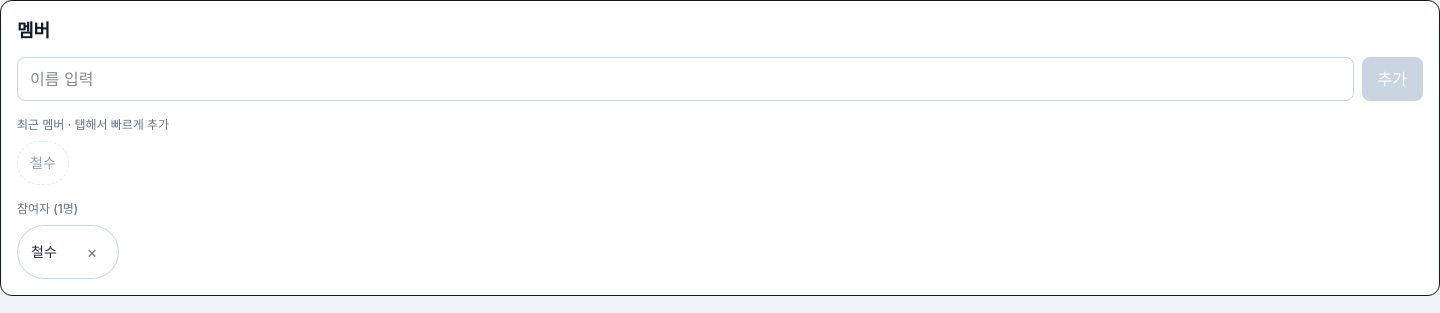
Test: MemberEditor › 참여자 칩 이름을 탭하면 인라인 편집으로 전환되고 Enter로 확정하면 스토어에 반영된다
Click the button "철수" below "참여자 (" at (44, 252), box [22, 230, 66, 274]
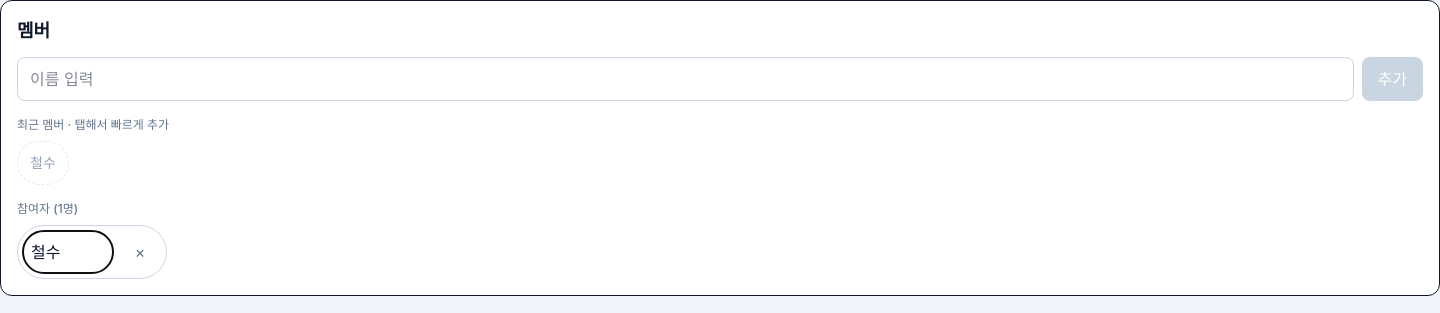
Clear the field named "철수 이름 수정" at (68, 252), box [22, 230, 114, 274]
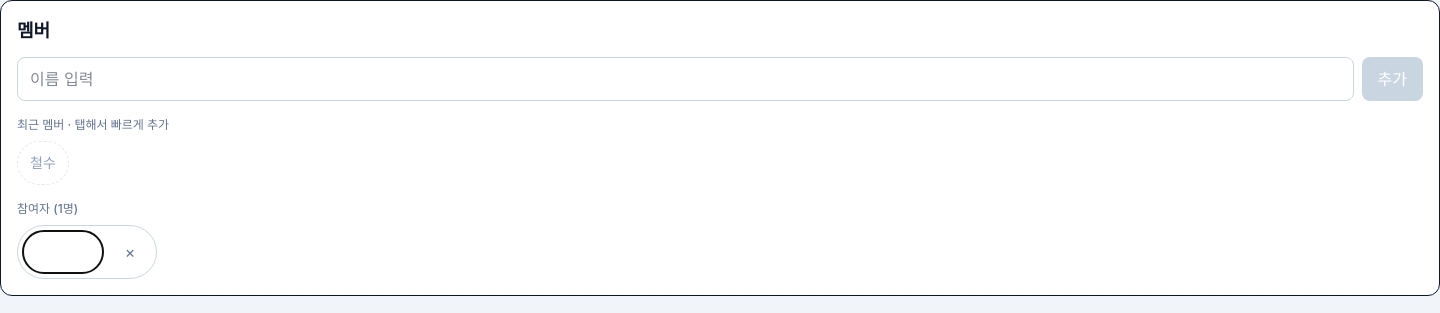
Type "철수2" into the field named "철수 이름 수정" at (63, 252), box [22, 230, 104, 274]
Then press Enter
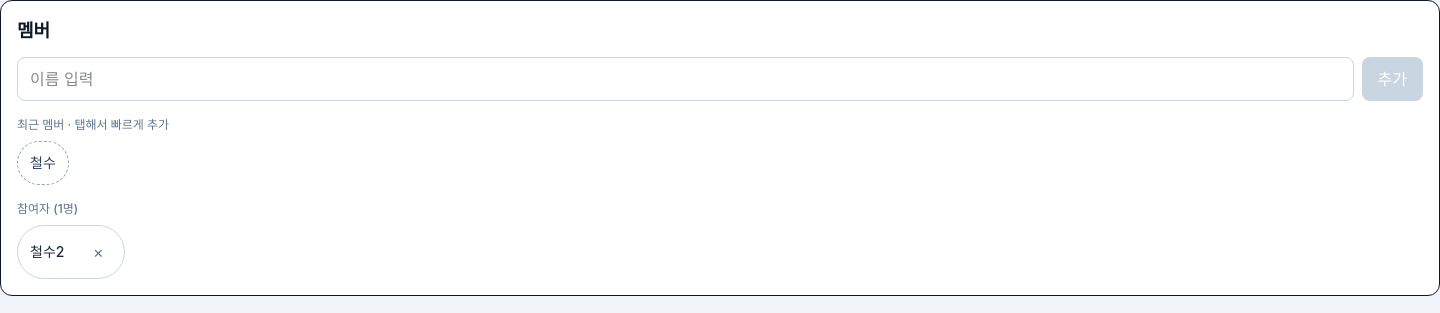
Expected: the button "철수2" is shown, [22, 230, 72, 274]
